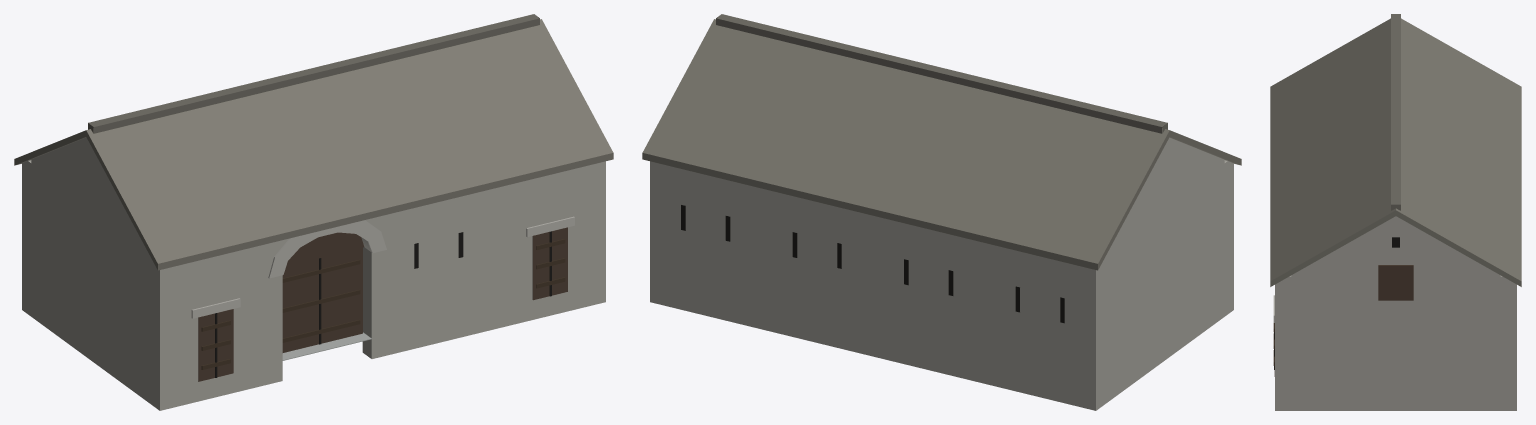
Rendered from context.farm.dales_barn.glb.
The picture shows the model from 3 angles, left to right: view 1: azimuth 30°, elevation 25°; view 2: azimuth 150°, elevation 25°; view 3: azimuth 270°, elevation 25°; orthographic projection. The views are drawn at different scales.
Parts seen in each view (by area): view 1: main__tile_777, main__stone_aaa, main__timber_543, main__tile_766, main__stone_bba, main__timber_433, main__paint_221, main__concrete_aaa; view 2: main__stone_aaa, main__tile_777, main__tile_766, main__paint_221; view 3: main__tile_777, main__stone_aaa, main__tile_766, main__timber_543.
Part boxes in pixels (left/top/right/bottom): main__tile_777: left=14, top=19, right=613, bottom=270; main__stone_aaa: left=22, top=137, right=605, bottom=410; main__timber_543: left=198, top=227, right=567, bottom=381; main__tile_766: left=88, top=14, right=539, bottom=133; main__stone_bba: left=191, top=216, right=574, bottom=318; main__timber_433: left=201, top=239, right=565, bottom=369; main__paint_221: left=215, top=231, right=551, bottom=377; main__concrete_aaa: left=282, top=332, right=371, bottom=360; main__stone_aaa: left=650, top=137, right=1233, bottom=410; main__tile_777: left=642, top=19, right=1241, bottom=270; main__tile_766: left=716, top=14, right=1167, bottom=133; main__paint_221: left=681, top=205, right=1064, bottom=323; main__tile_777: left=1270, top=18, right=1521, bottom=286; main__stone_aaa: left=1275, top=216, right=1516, bottom=410; main__tile_766: left=1391, top=14, right=1400, bottom=210; main__timber_543: left=1274, top=265, right=1413, bottom=376.
Bounding box in the file's own units: 14.3 × 7.06 × 7.8.
